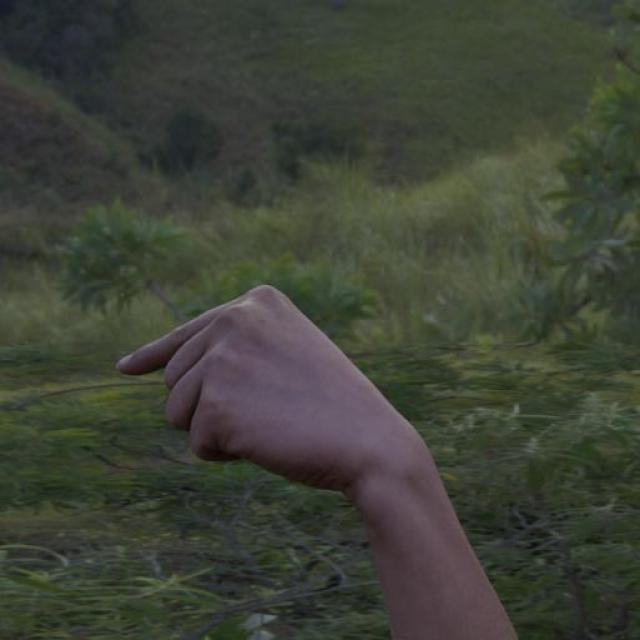G: (112, 279, 434, 471)
